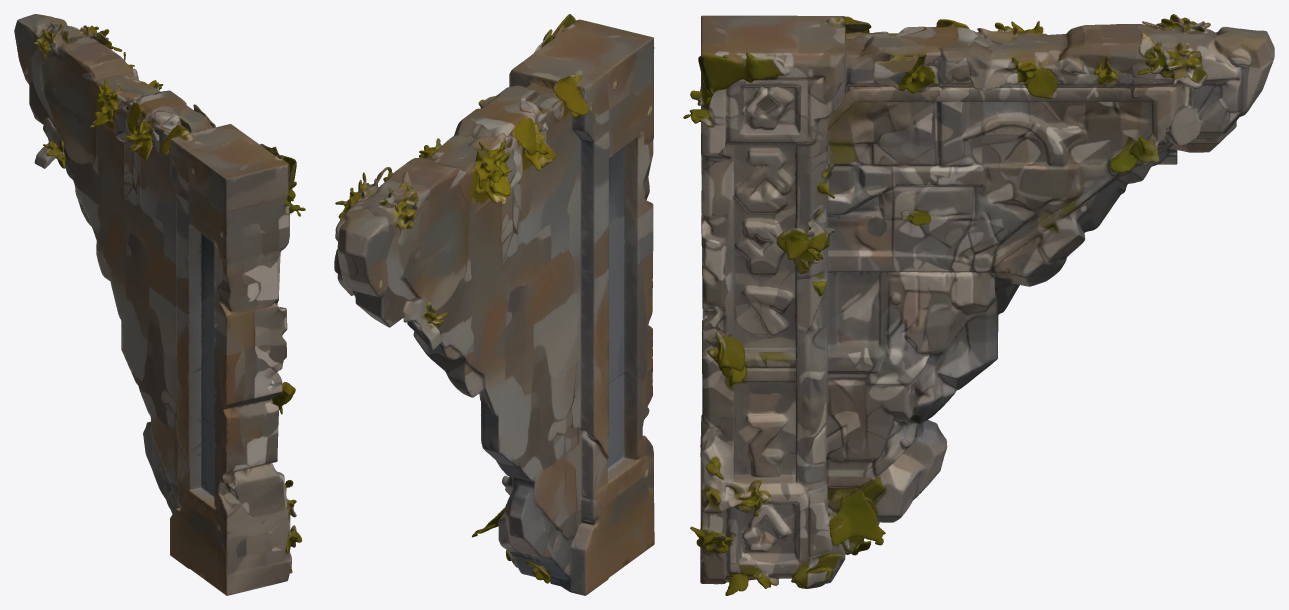
Rendered from ruin_wall_fragment.glb.
3 renders of one model, left to right at view 1: azimuth 30°, elevation 25°; view 2: azimuth 150°, elevation 25°; view 3: azimuth 270°, elevation 25°, orthographic. The views are drawn at different scales.
Parts seen in each view (by area): view 1: tripo_node_fbc627c1-f2cb-44a8-a7ae-c8cb8b5dea4c; view 2: tripo_node_fbc627c1-f2cb-44a8-a7ae-c8cb8b5dea4c; view 3: tripo_node_fbc627c1-f2cb-44a8-a7ae-c8cb8b5dea4c.
Boxes of the visible parts, x1=… form: tripo_node_fbc627c1-f2cb-44a8-a7ae-c8cb8b5dea4c: x1=14, y1=14, x2=305, y2=595; tripo_node_fbc627c1-f2cb-44a8-a7ae-c8cb8b5dea4c: x1=334, y1=14, x2=654, y2=595; tripo_node_fbc627c1-f2cb-44a8-a7ae-c8cb8b5dea4c: x1=683, y1=14, x2=1274, y2=595.
Size of the model in its own units: 0.2109 by 1 by 0.9807.
Materials: 1 (1 with a texture image).
